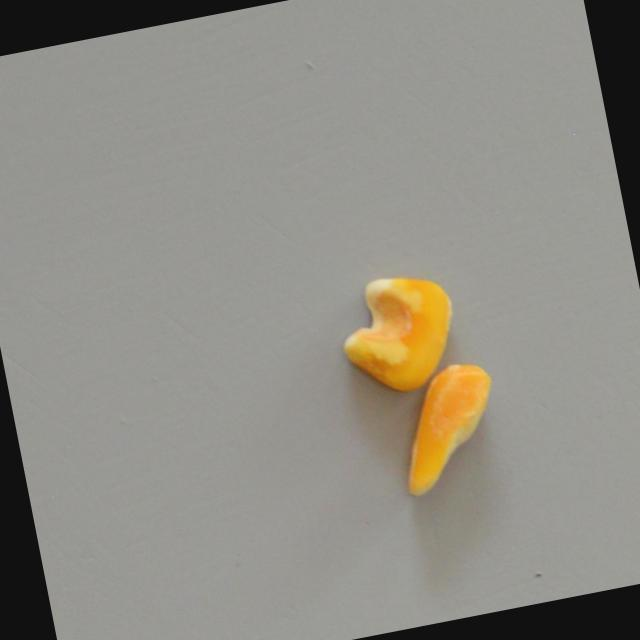dañado: (328, 265, 469, 403), (382, 356, 513, 502)
